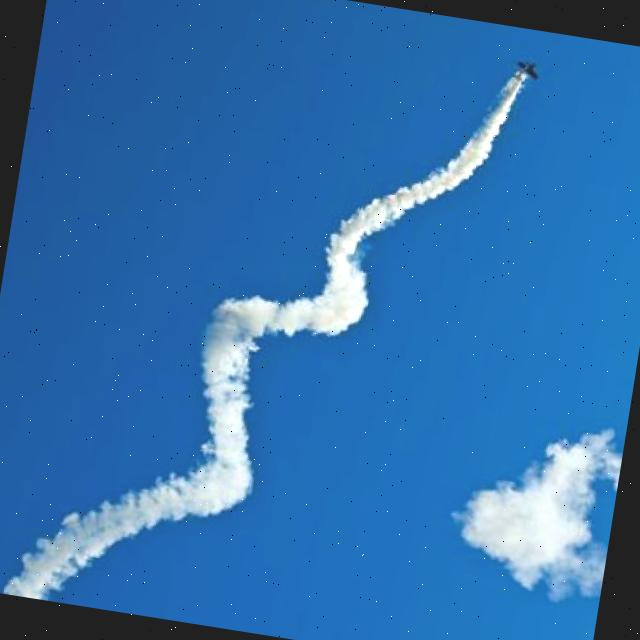Ct: (1, 1, 547, 640)
